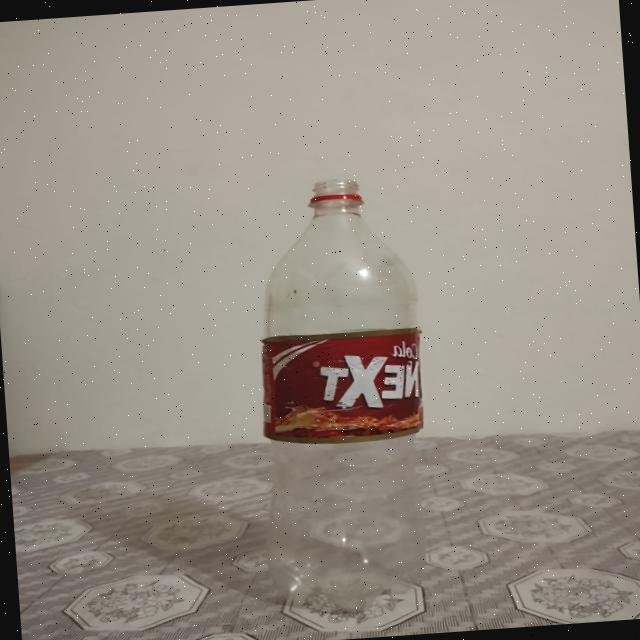bottle: (260, 170, 445, 598)
label: (256, 322, 434, 450)
